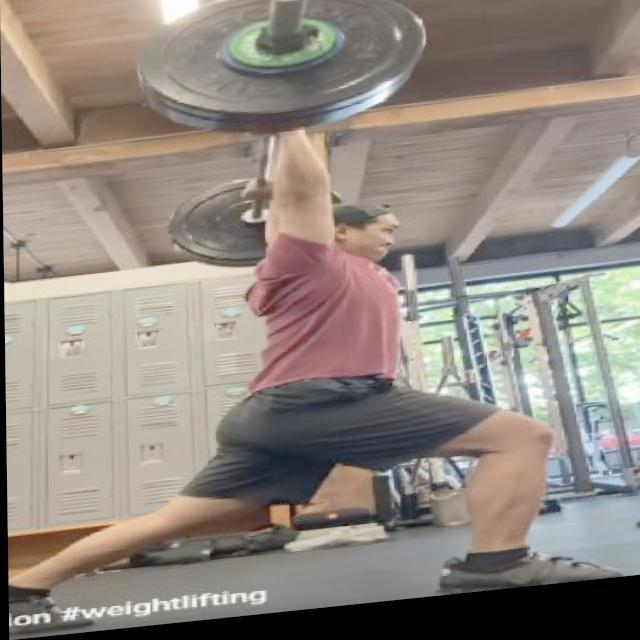barbell: (134, 1, 430, 138)
